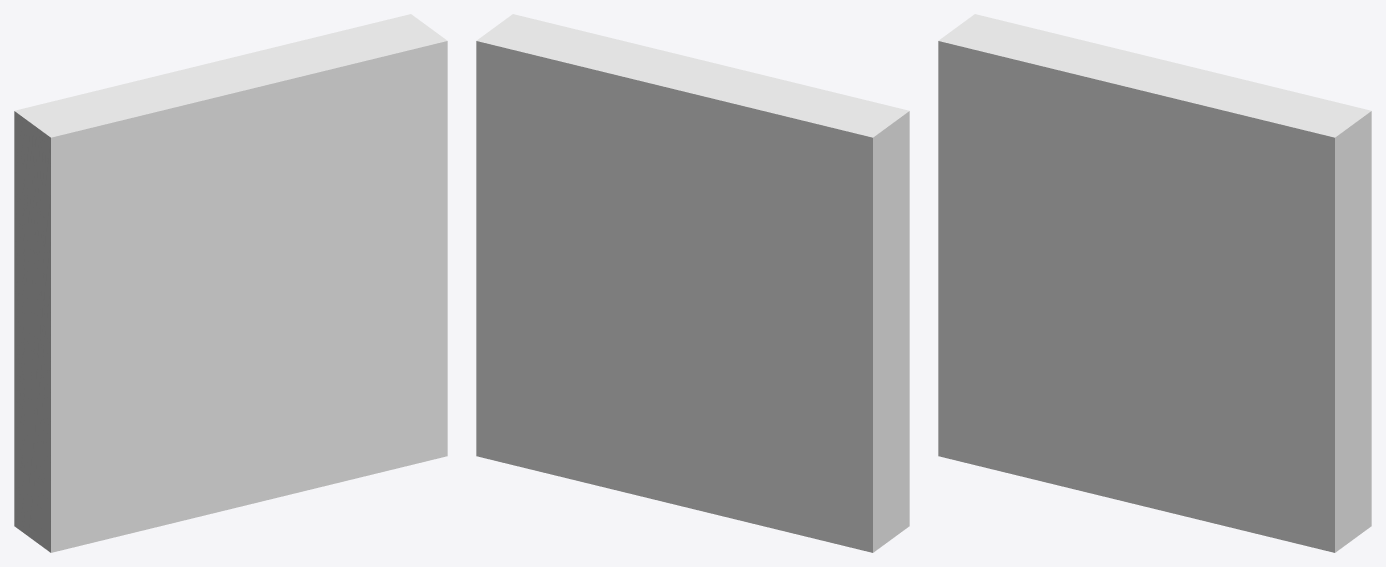
The model's file is venice_murano_0.fbx.
3 renders of one model, left to right at view 1: azimuth 30°, elevation 25°; view 2: azimuth 150°, elevation 25°; view 3: azimuth 330°, elevation 25°, orthographic.
Parts seen in each view (by area): view 1: Cube.331; view 2: Cube.331; view 3: Cube.331.
Part boxes in pixels (x1,y1,x2,y2): Cube.331: [14, 14, 447, 552]; Cube.331: [476, 14, 909, 552]; Cube.331: [938, 14, 1371, 552].
Size of the model in its own units: 1705 by 1705 by 273.
